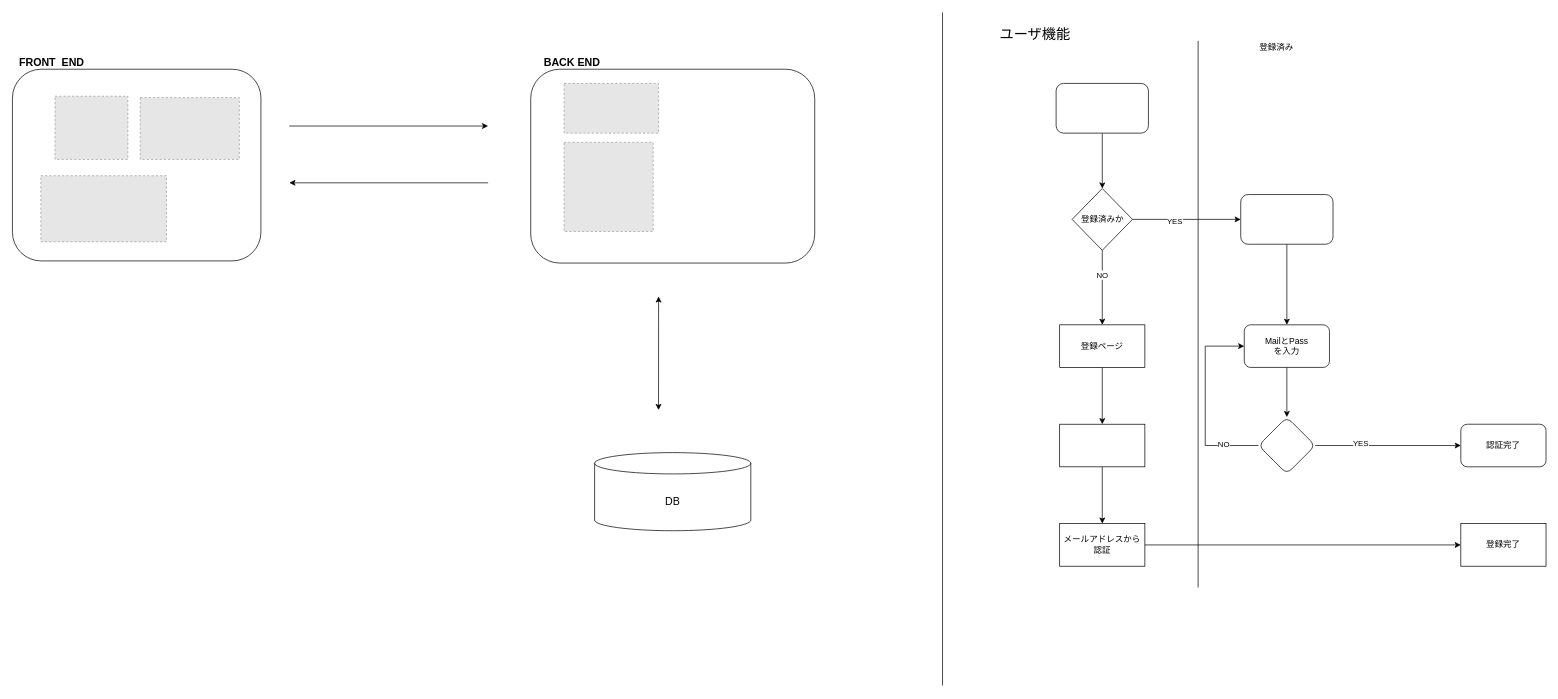
This 1558x699 diagram has some shape labels left out. Grey dashed boxes stand in for pictures. The shapes that lost their labels are listed below. From the top down, each one's centre as x and y in pixels, then its label:
At pixel 1101 108: "ユーザ認証開始".
At pixel 1286 219: "ログインページへ".
At pixel 1102 445: "名前とパスワード 入力".
At pixel 1286 445: "正しいか".
